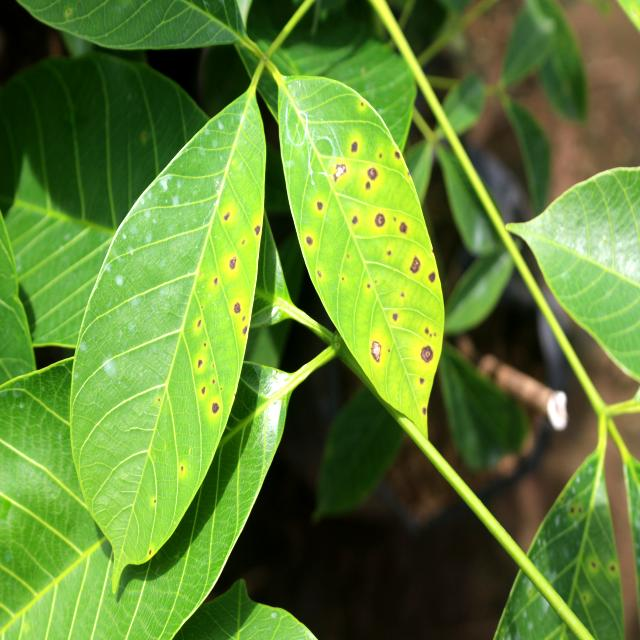Colletotrichum: (409, 257, 422, 274), (421, 346, 433, 364), (371, 342, 381, 362), (375, 214, 385, 227), (367, 167, 377, 180), (399, 222, 407, 233), (212, 402, 219, 413), (229, 257, 236, 268), (254, 225, 260, 236), (352, 142, 358, 152), (234, 303, 240, 313), (307, 237, 313, 245), (317, 202, 323, 210)
